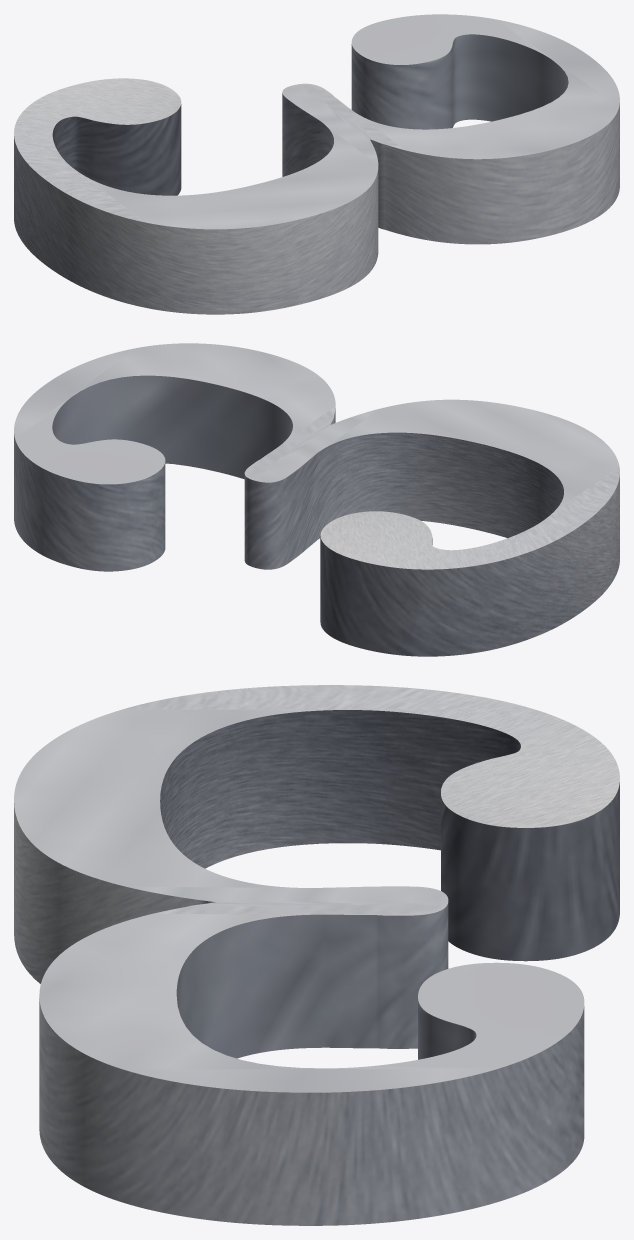
The model's file is number3.obj.
3 views of the same model, one above another, from view 1: azimuth 30°, elevation 25°; view 2: azimuth 150°, elevation 25°; view 3: azimuth 270°, elevation 25° (orthographic). The views are drawn at different scales.
Parts seen in each view (by area): view 1: Text.025; view 2: Text.025; view 3: Text.025.
Part boxes in pixels (left/top/right/bottom): Text.025: left=14, top=14, right=619, bottom=314; Text.025: left=14, top=343, right=619, bottom=656; Text.025: left=14, top=685, right=619, bottom=1225.
Size of the model in its own units: 1.05 by 0.1602 by 0.6606.
